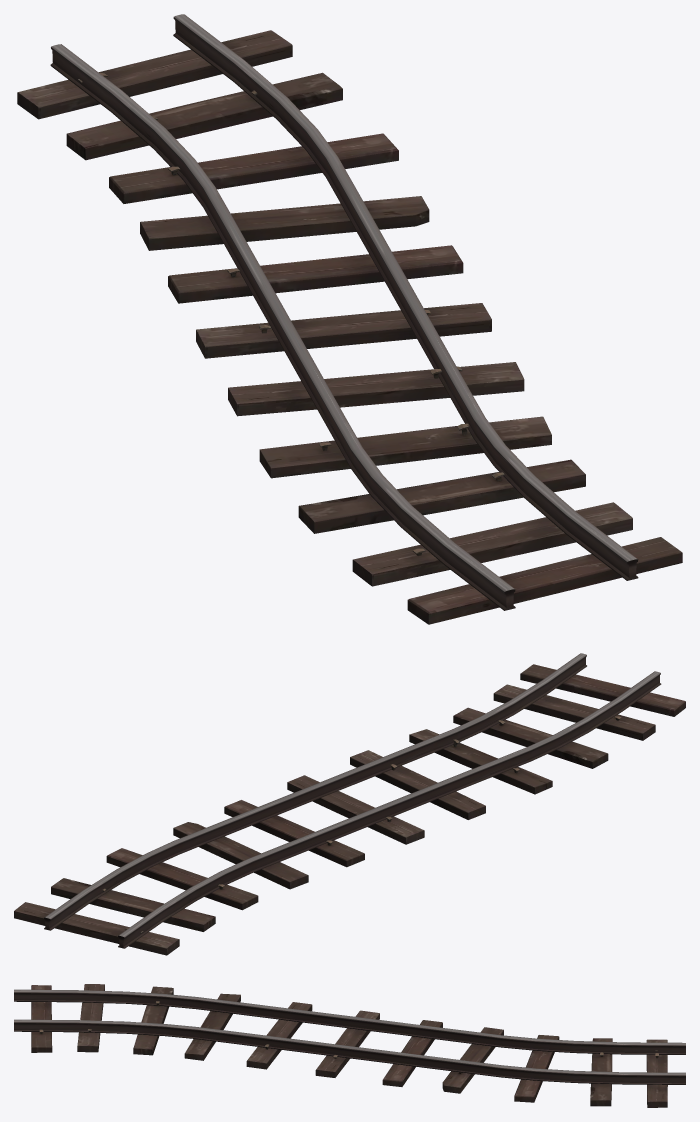
The picture shows the model from 3 angles, top to bottom: view 1: azimuth 30°, elevation 25°; view 2: azimuth 150°, elevation 25°; view 3: azimuth 270°, elevation 25°; orthographic projection. The views are drawn at different scales.
Parts seen in each view (by area): view 1: body0_model0_lod0_mesh0; view 2: body0_model0_lod0_mesh0; view 3: body0_model0_lod0_mesh0.
Part boxes in pixels (box(x1,y1,x2,y2)): body0_model0_lod0_mesh0: box(17, 14, 682, 624); body0_model0_lod0_mesh0: box(14, 653, 685, 955); body0_model0_lod0_mesh0: box(14, 984, 685, 1107).
Bounding box in the file's own units: 106 × 6.69 × 256.
1 material, 1 textured.
